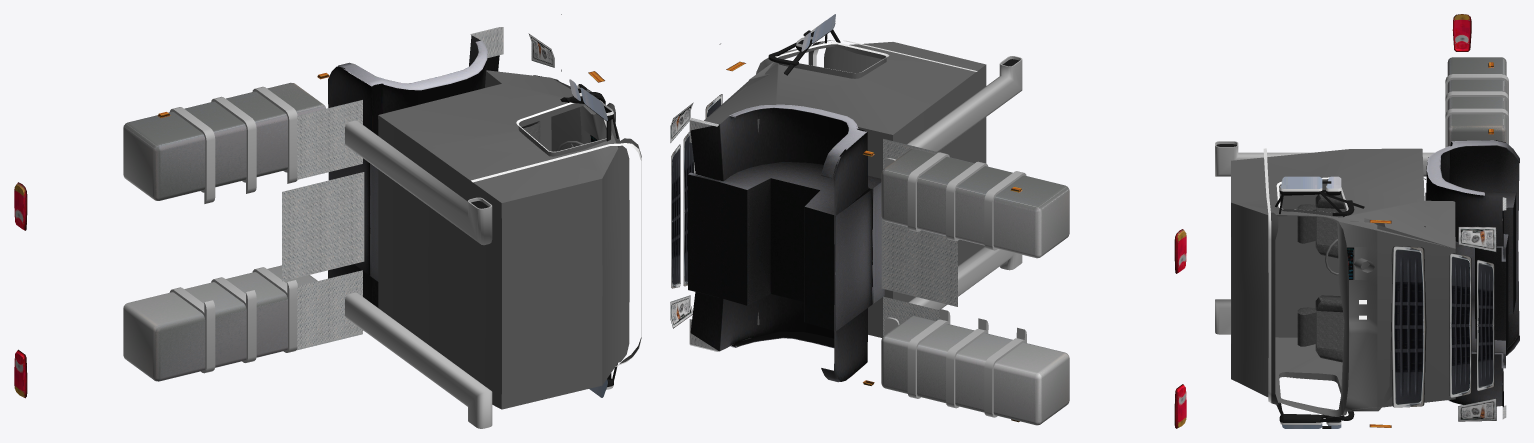
The model's file is cab_details.obj.
3 renders of one model, left to right at view 1: azimuth 30°, elevation 25°; view 2: azimuth 150°, elevation 25°; view 3: azimuth 270°, elevation 25°, orthographic. The views are drawn at different scales.
Parts seen in each view (by area): view 1: cab_details; view 2: cab_details; view 3: cab_details.
Boxes of the visible parts, <box> form: cab_details: <box>14,14,641,428</box>; cab_details: <box>670,14,1186,428</box>; cab_details: <box>1215,14,1519,428</box>.
Size of the model in its own units: 5.44 by 3.04 by 3.14.
Materials: 16 (12 with a texture image).
